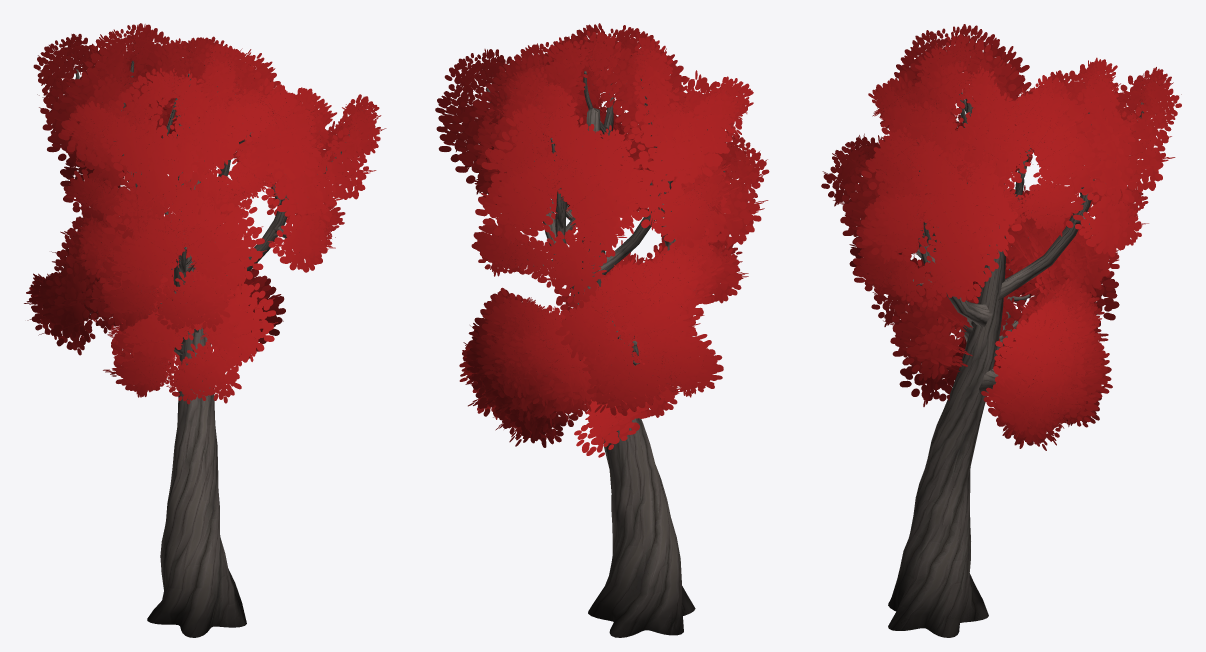
The model's file is TwistedTree_5.glb.
The picture shows the model from 3 angles, left to right: view 1: azimuth 30°, elevation 25°; view 2: azimuth 150°, elevation 25°; view 3: azimuth 270°, elevation 25°; orthographic projection. The views are drawn at different scales.
Visible parts, largest first — view 1: TwistedTree_5; view 2: TwistedTree_5; view 3: TwistedTree_5.
Boxes of the visible parts, x1,y1,x2,y2 form: TwistedTree_5: (24,23,386,637); TwistedTree_5: (435,23,769,637); TwistedTree_5: (821,24,1181,637).
Bounding box in the file's own units: 9.49 × 15.66 × 9.39.
2 materials, 2 textured.
